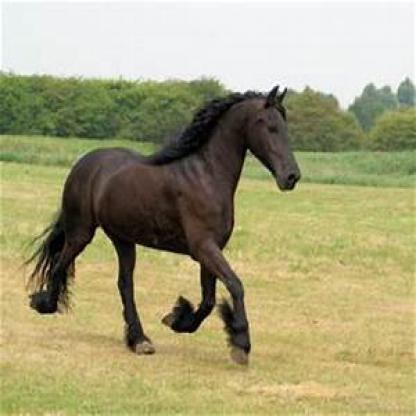horse: (29, 84, 301, 366)
